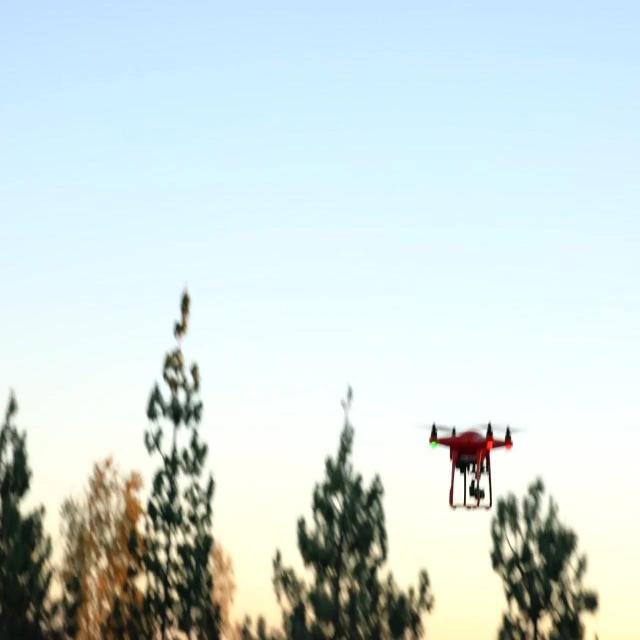drone: (416, 418, 518, 512)
